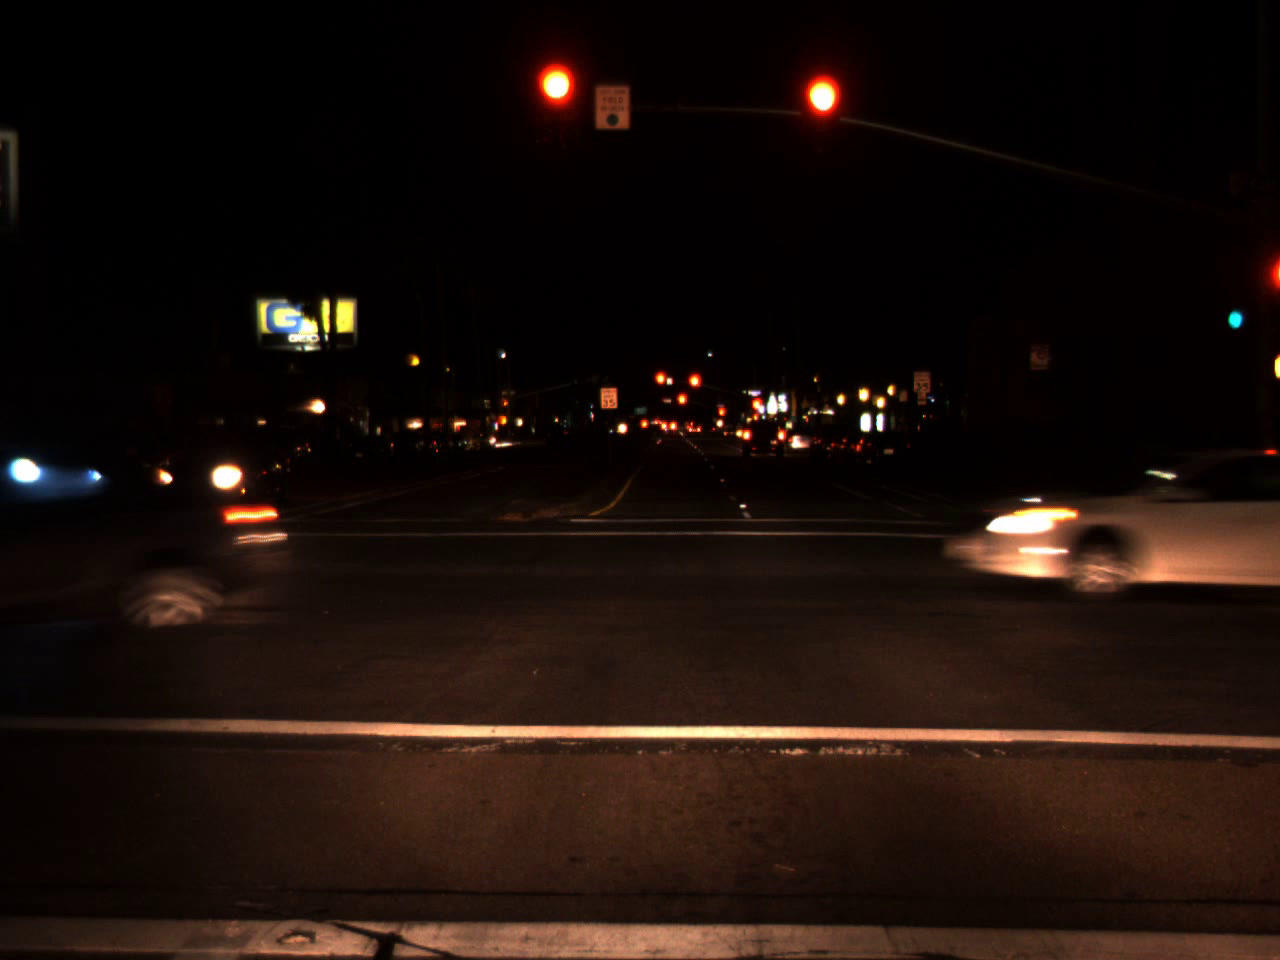stop: (537, 64, 577, 142), (803, 76, 843, 154), (653, 369, 668, 401), (686, 372, 702, 401), (750, 396, 763, 425), (676, 391, 688, 418), (717, 406, 727, 427), (503, 398, 509, 414)
